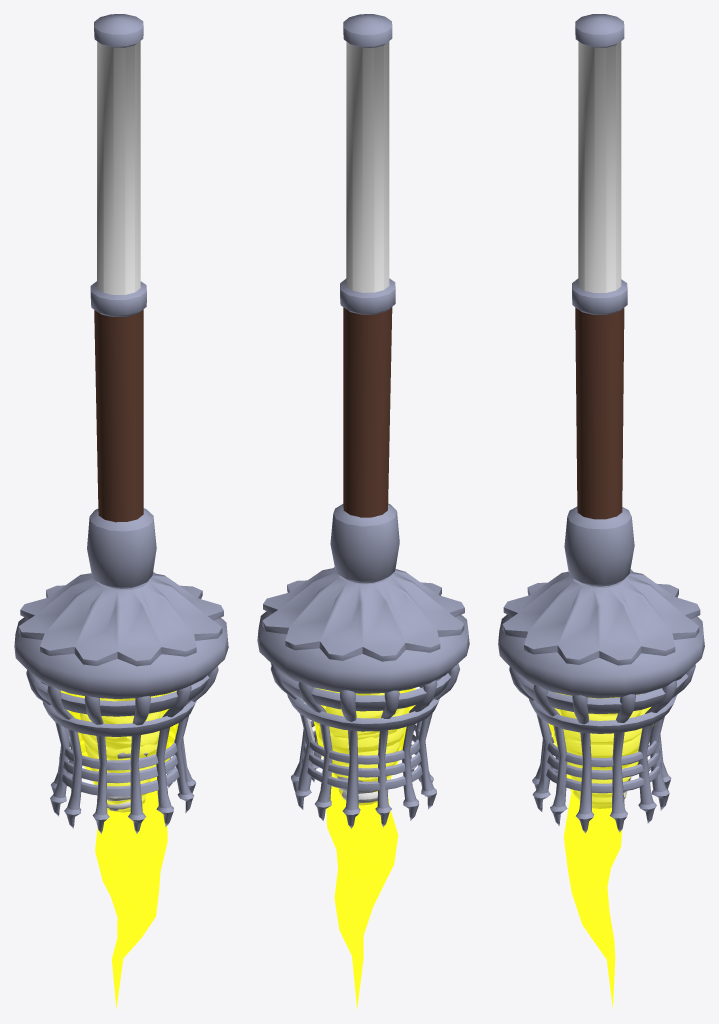
3 views of the same model, side by side, from view 1: azimuth 30°, elevation 25°; view 2: azimuth 150°, elevation 25°; view 3: azimuth 270°, elevation 25° (orthographic).
Visible parts, largest first — view 1: torch, flame; view 2: torch, flame; view 3: torch, flame.
Part boxes in pixels (left/top/right/bottom): torch: left=14, top=14, right=228, bottom=833; flame: left=60, top=690, right=178, bottom=1008; torch: left=257, top=14, right=469, bottom=828; flame: left=314, top=688, right=415, bottom=1009; torch: left=498, top=14, right=704, bottom=833; flame: left=548, top=692, right=653, bottom=1008.
Bounding box in the file's own units: 199 × 206 × 1048.
